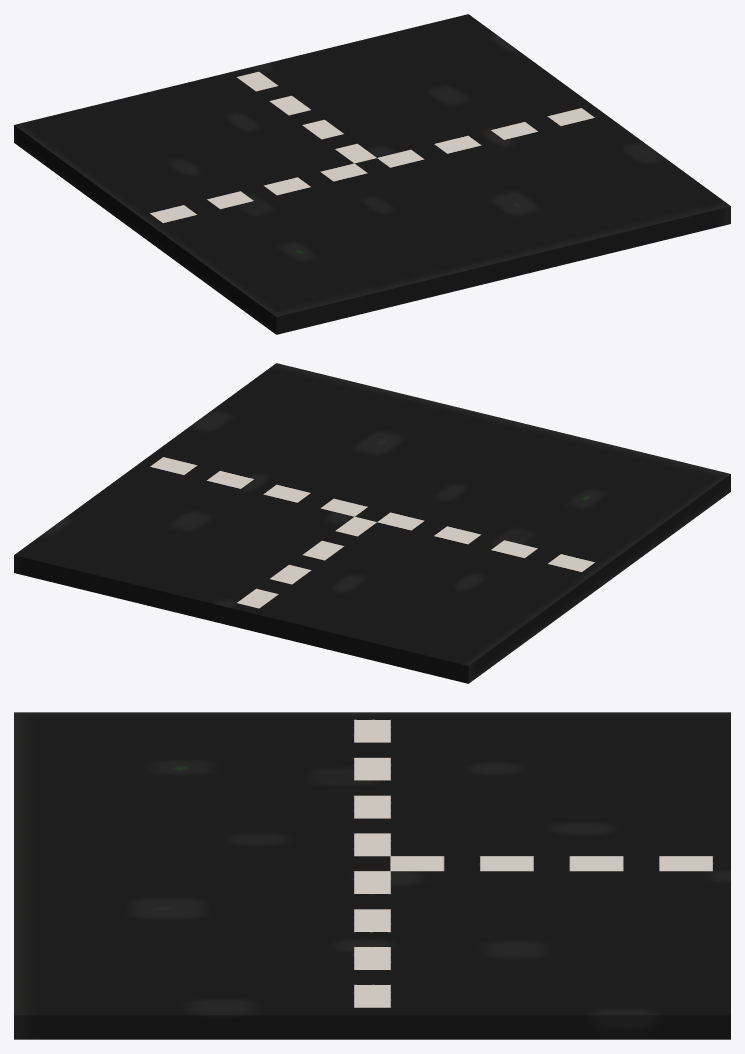
Rendered from road_8x8_t_intersecction_00.glb.
3 renders of one model, top to bottom at view 1: azimuth 30°, elevation 25°; view 2: azimuth 150°, elevation 25°; view 3: azimuth 270°, elevation 25°, orthographic. The views are drawn at different scales.
Visible parts, largest first — view 1: road_8x8_t_intersection_00; view 2: road_8x8_t_intersection_00; view 3: road_8x8_t_intersection_00.
Part boxes in pixels (x1,y1,x2,y2): road_8x8_t_intersection_00: (14, 14, 730, 334); road_8x8_t_intersection_00: (14, 363, 730, 683); road_8x8_t_intersection_00: (14, 712, 730, 1039).
Size of what is drawn, in the model's own units: 8 by 0.3 by 8.
1 material, 1 textured.
